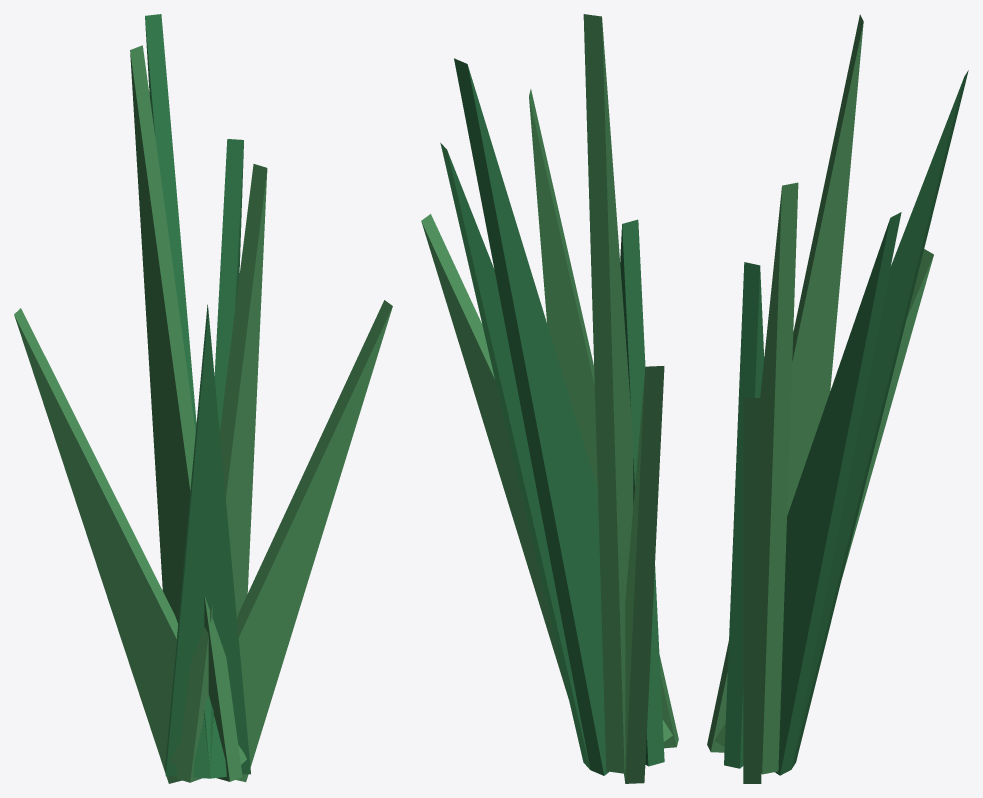
Rendered from grass_clump.glb.
The picture shows the model from 3 angles, left to right: view 1: azimuth 30°, elevation 25°; view 2: azimuth 150°, elevation 25°; view 3: azimuth 270°, elevation 25°; orthographic projection. The views are drawn at different scales.
Visible parts, largest first — view 1: model; view 2: model; view 3: model.
Boxes of the visible parts, x1,y1,x2,y2 form: model: (14, 14, 392, 783); model: (421, 14, 678, 783); model: (707, 14, 968, 783).
Bounding box in the file's own units: 0.3956 × 0.9116 × 0.2927.
